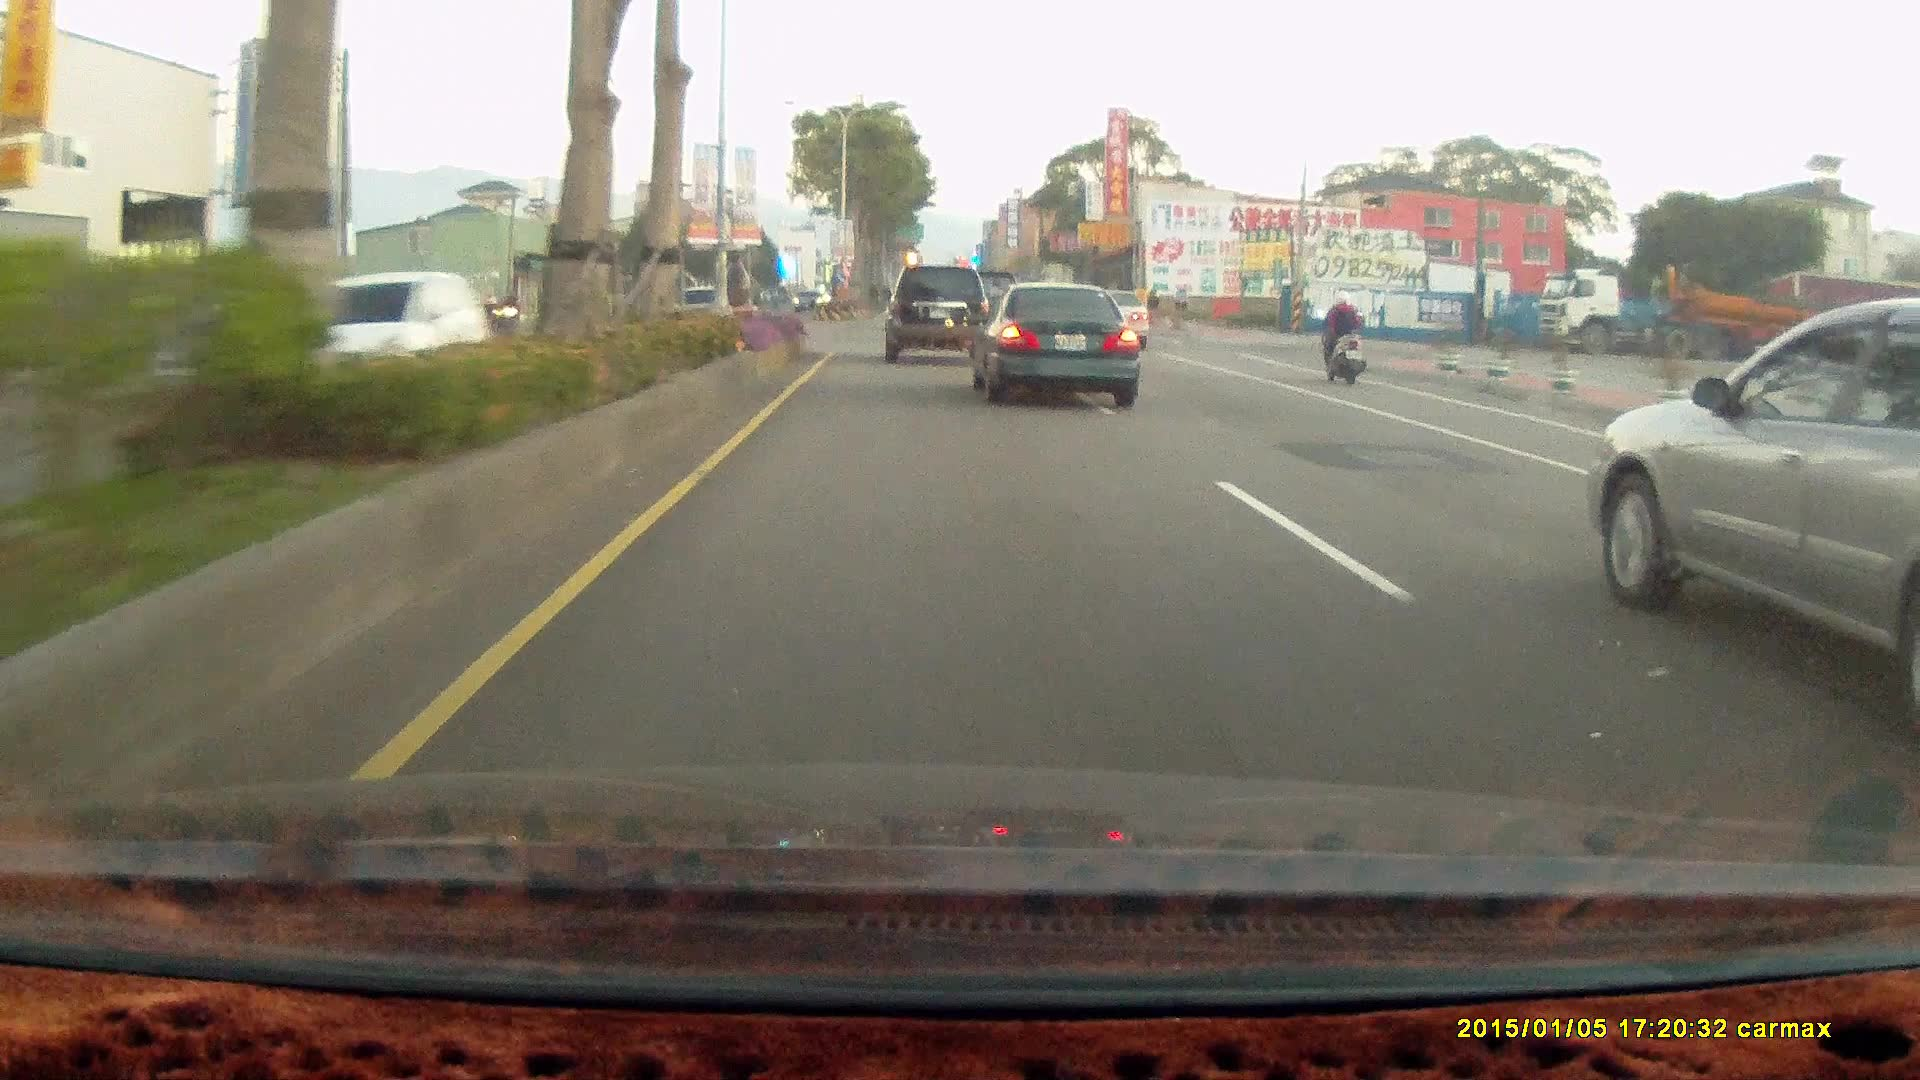rider: (1310, 283, 1374, 390), (1311, 292, 1367, 388), (489, 293, 525, 354)
vehicle: (1596, 296, 1920, 734), (1533, 266, 1915, 367), (282, 269, 490, 406), (293, 270, 488, 406), (964, 287, 1137, 413), (974, 291, 1142, 412), (884, 264, 994, 367), (883, 264, 990, 365)
